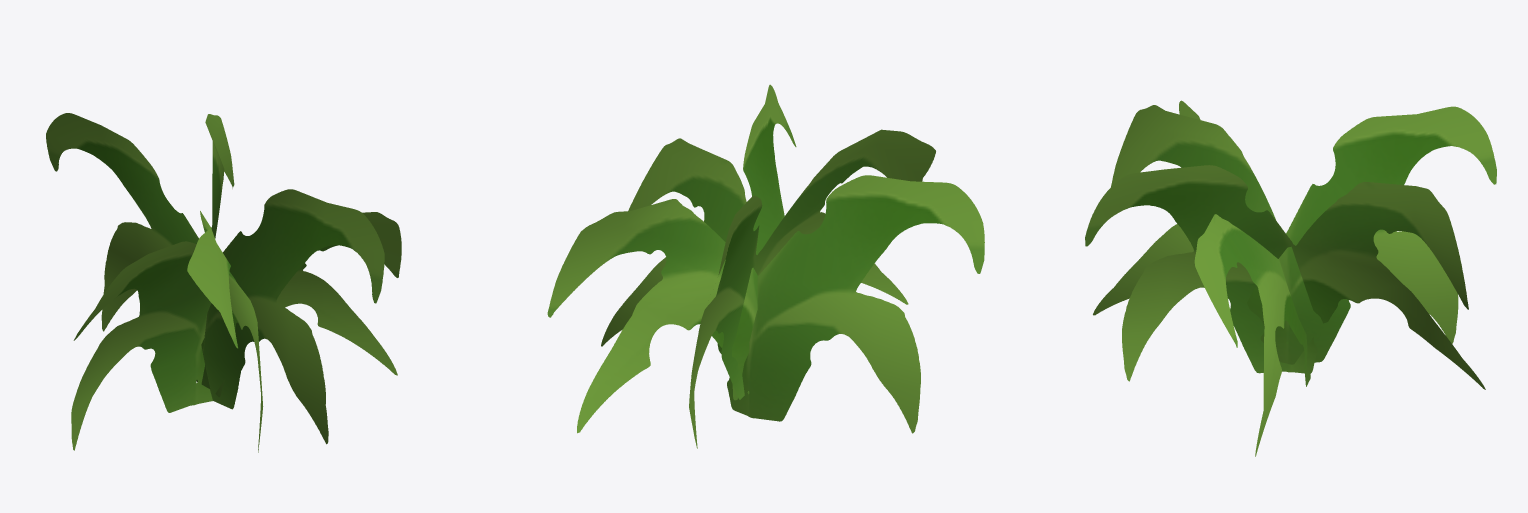
The model's file is Paprota.fbx.
The picture shows the model from 3 angles, left to right: view 1: azimuth 30°, elevation 25°; view 2: azimuth 150°, elevation 25°; view 3: azimuth 270°, elevation 25°; orthographic projection. The views are drawn at different scales.
Parts seen in each view (by area): view 1: Plane.023; view 2: Plane.023; view 3: Plane.023.
Boxes of the visible parts, bbox=[...] form: Plane.023: bbox=[46, 113, 401, 452]; Plane.023: bbox=[547, 84, 984, 448]; Plane.023: bbox=[1085, 100, 1496, 456].
Bounding box in the file's own units: 200 × 160 × 205.
Materials: 1 (1 with a texture image).
